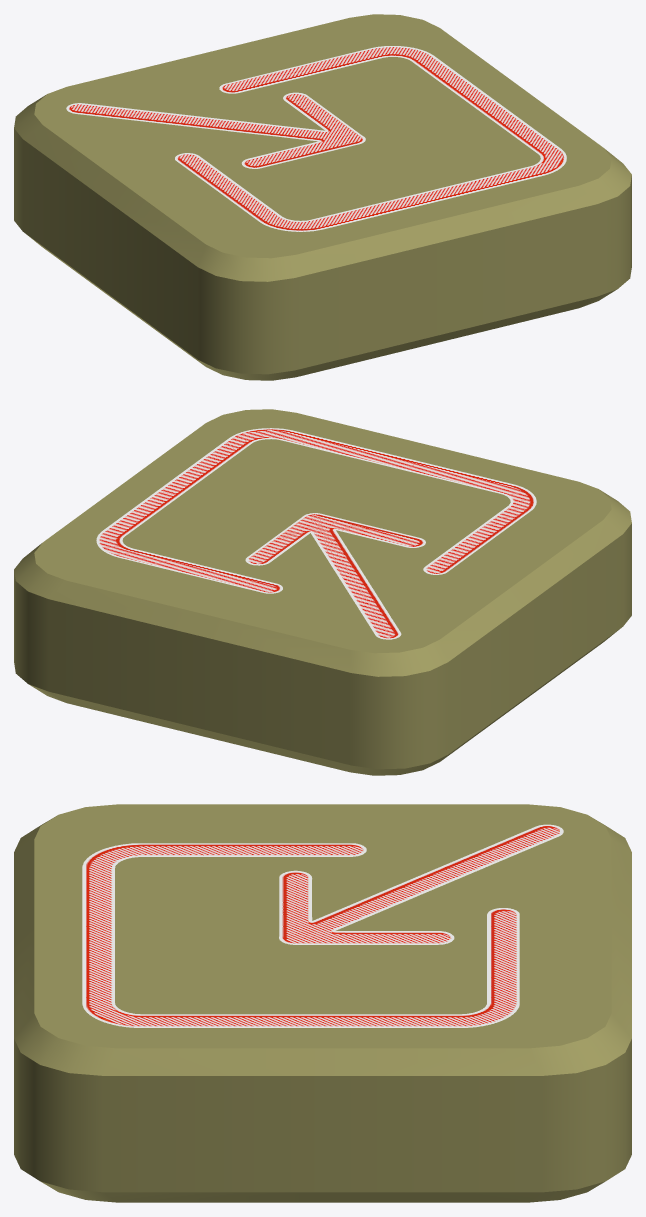
File: ResizePlatform.fbx
3 views of the same model, one above another, from view 1: azimuth 30°, elevation 25°; view 2: azimuth 150°, elevation 25°; view 3: azimuth 270°, elevation 25° (orthographic). The views are drawn at different scales.
Visible parts, largest first — view 1: tassello_colorato; view 2: tassello_colorato; view 3: tassello_colorato.
Boxes of the visible parts, bbox=[...] form: tassello_colorato: bbox=[14, 14, 631, 380]; tassello_colorato: bbox=[14, 409, 631, 775]; tassello_colorato: bbox=[14, 804, 631, 1202].
Size of the model in its own units: 177 by 48.71 by 177.
Materials: 2 (1 with a texture image).
